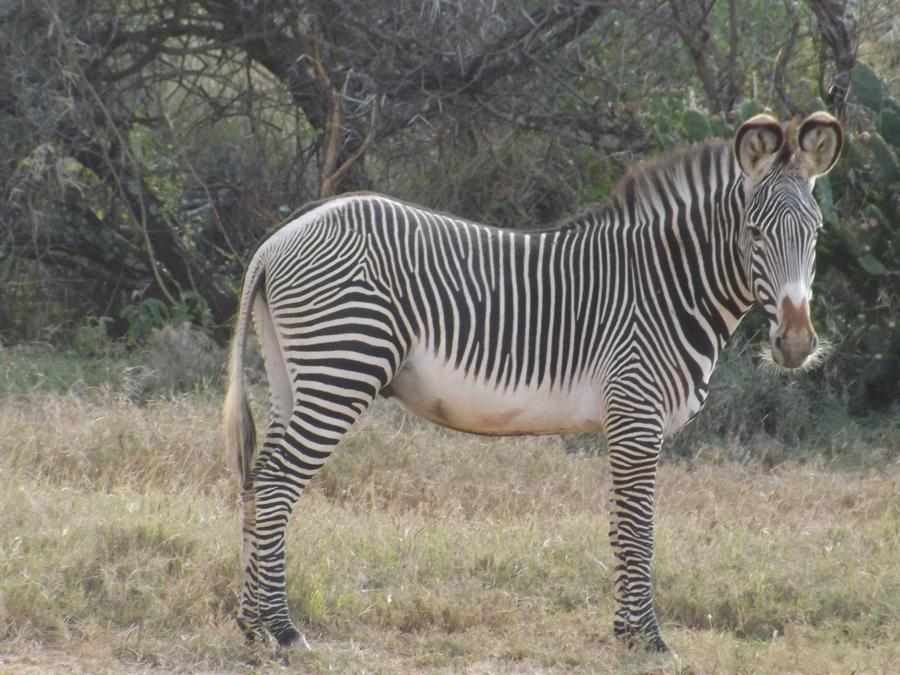zebra_grevys: (246, 168, 680, 441)
